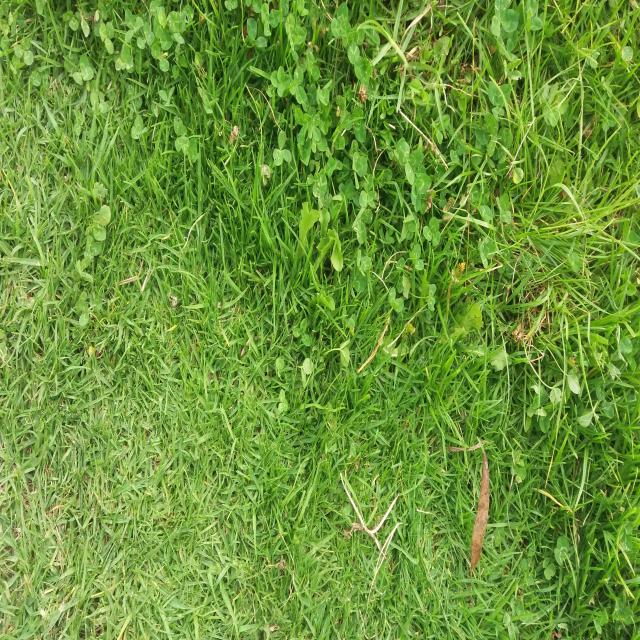Four Leaf Clover: (249, 366, 299, 393), (270, 66, 291, 97)
